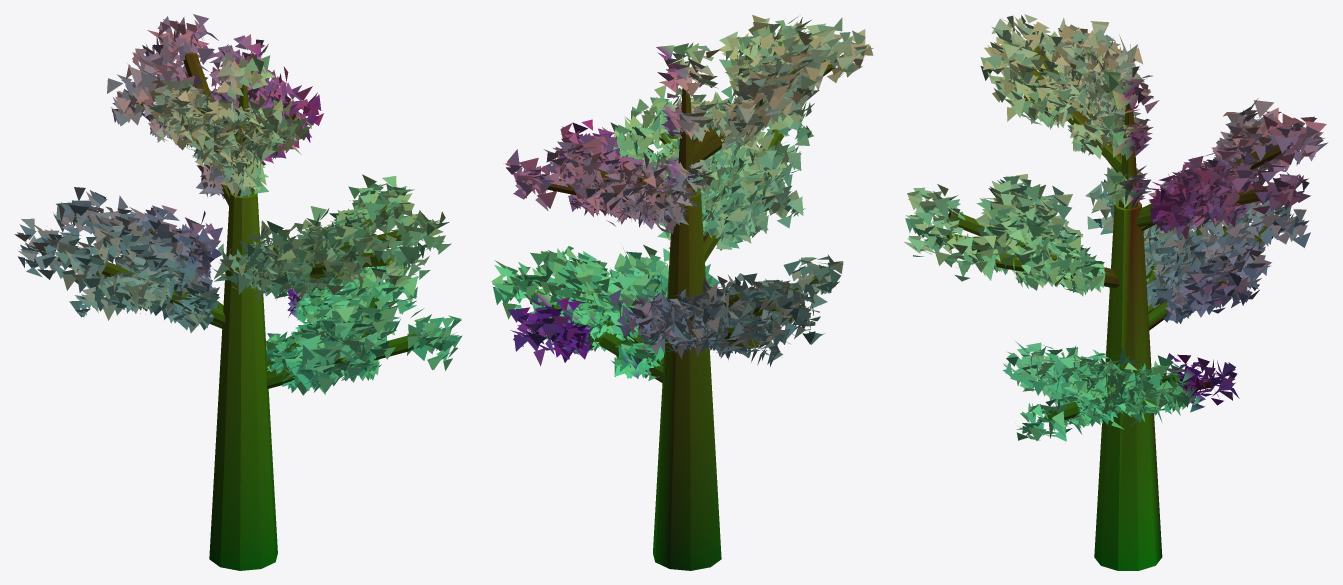
File: ecological_broadleaf_mature_02.glb
The picture shows the model from 3 angles, left to right: view 1: azimuth 30°, elevation 25°; view 2: azimuth 150°, elevation 25°; view 3: azimuth 270°, elevation 25°; orthographic projection. The views are drawn at different scales.
Visible parts, largest first — view 1: ecological_broadleaf_mature_02; view 2: ecological_broadleaf_mature_02; view 3: ecological_broadleaf_mature_02.
Part boxes in pixels (<box>): ecological_broadleaf_mature_02: <box>14,14,462,570</box>; ecological_broadleaf_mature_02: <box>491,15,873,570</box>; ecological_broadleaf_mature_02: <box>904,14,1328,570</box>.
Size of the model in its own units: 23.3 by 32.77 by 25.69.
